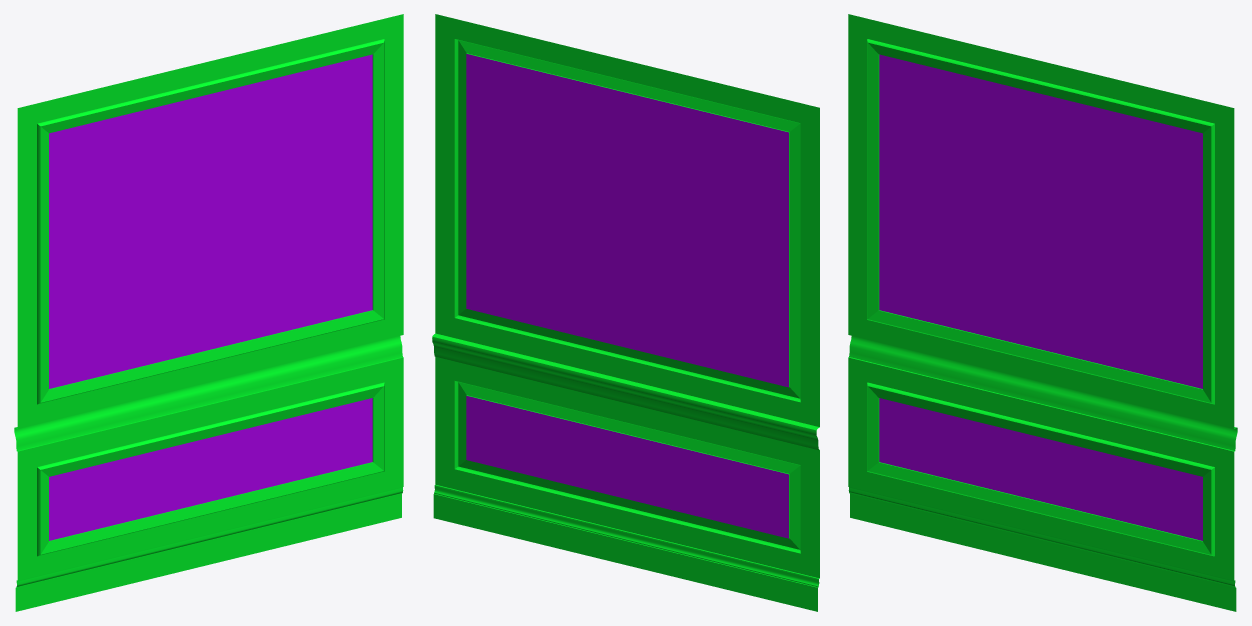
The model's file is AR-Wall_2M_01.FBX.
3 views of the same model, side by side, from view 1: azimuth 30°, elevation 25°; view 2: azimuth 150°, elevation 25°; view 3: azimuth 330°, elevation 25° (orthographic).
Parts seen in each view (by area): view 1: AR-Wall_2M_01; view 2: AR-Wall_2M_01; view 3: AR-Wall_2M_01.
Part boxes in pixels (bbox=[...]): AR-Wall_2M_01: bbox=[14, 14, 403, 611]; AR-Wall_2M_01: bbox=[432, 14, 819, 611]; AR-Wall_2M_01: bbox=[848, 14, 1237, 611].
Bounding box in the file's own units: 200 × 250 × 4.49.
